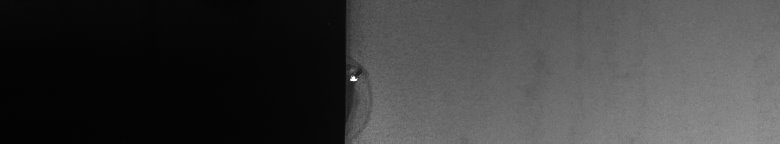hb: (356, 52, 375, 136)
